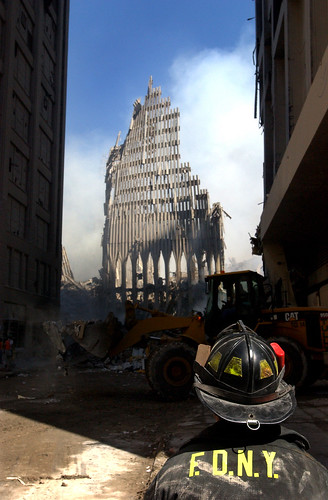building: (96, 79, 234, 297), (251, 1, 328, 319), (1, 1, 63, 339)
firefighter: (145, 329, 328, 500)
sky: (69, 1, 254, 143)
tractor: (69, 271, 328, 393)
